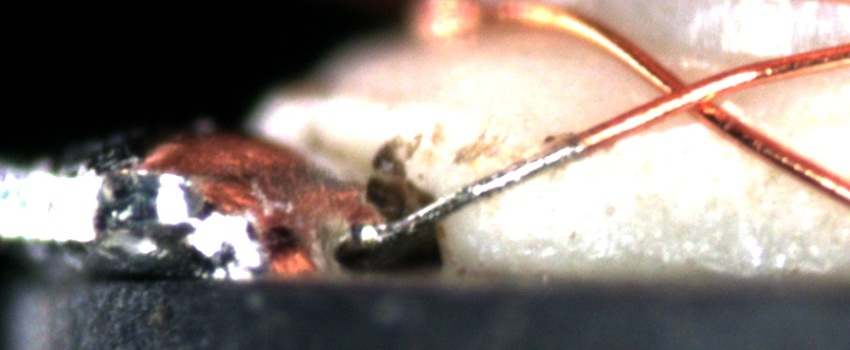CL: (639, 61, 743, 134)
TS: (383, 141, 583, 237)
